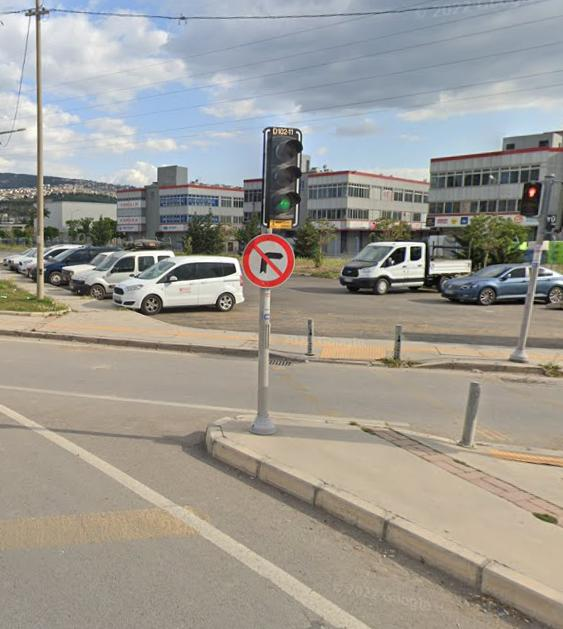greenlight: (270, 130, 299, 213)
rightturnsareforbidden: (241, 236, 299, 289)
